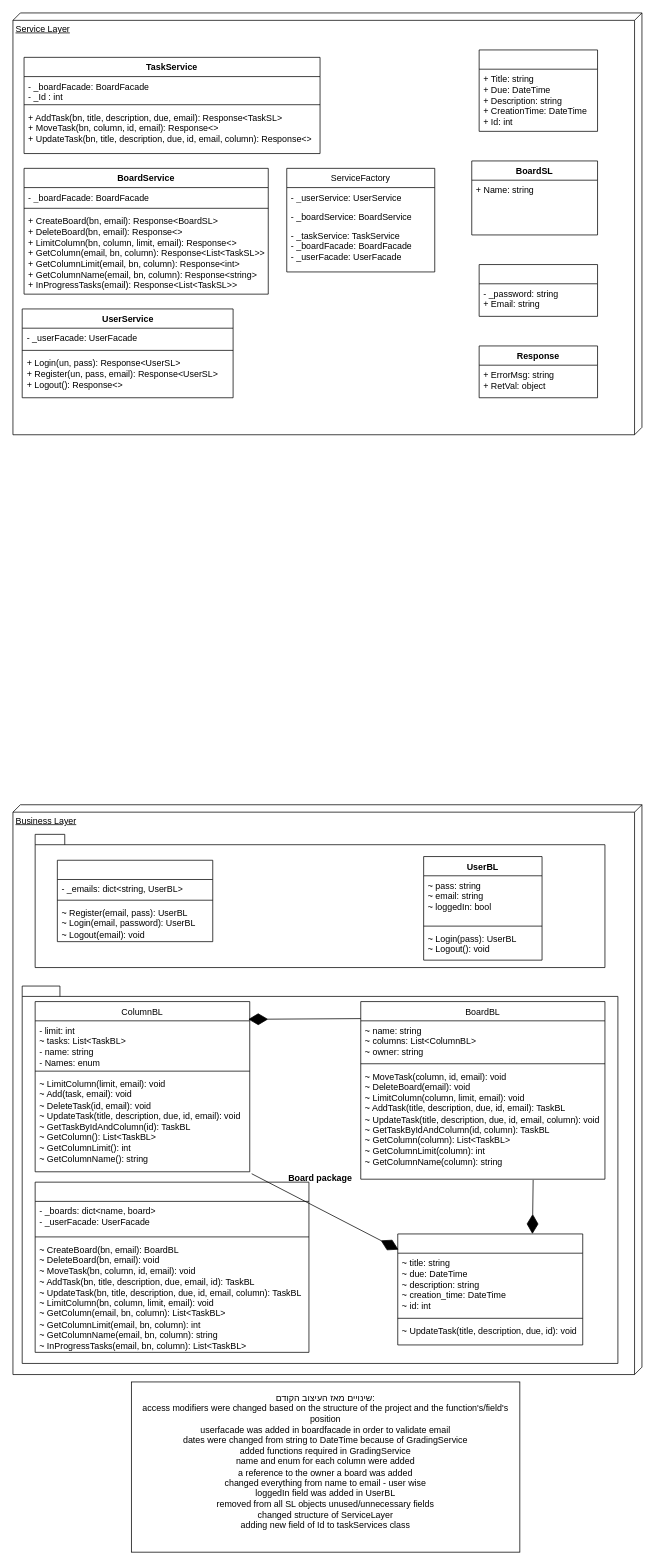
The diagram is 655 pixels wide and 1565 high, and some of its shapes have lost their labels. The shapes that lost their labels are listed below. From the top down, each one's box as (x1, y1, x2, y2) in pixels, then its label:
(478, 49, 598, 131): TaskSL
(478, 264, 598, 316): UserSL
(57, 860, 213, 942): UserFacade
(34, 834, 605, 968): User package
(34, 1181, 309, 1352): BoardFacade
(397, 1233, 583, 1345): TaskBL
